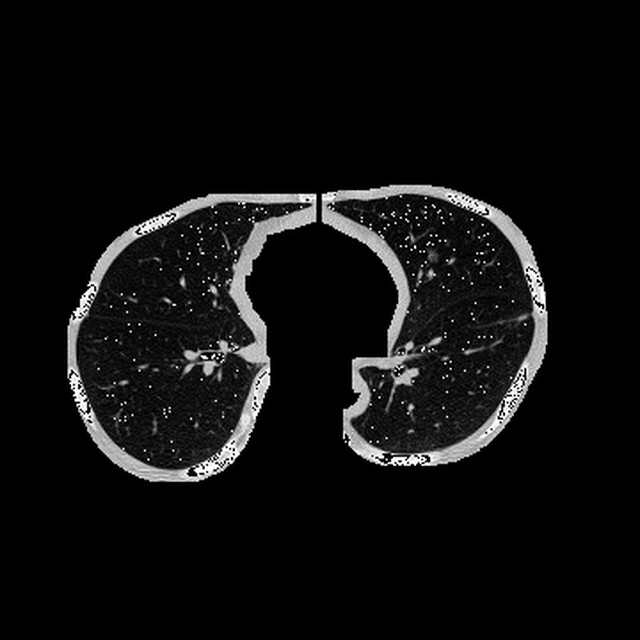PN: (427, 251, 437, 261)
